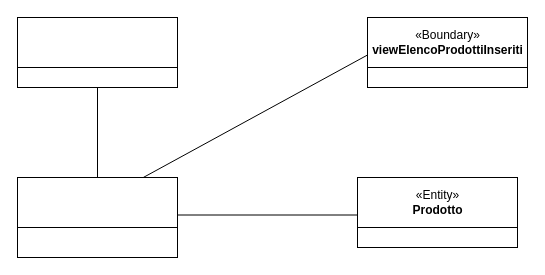
Image size: 545x275. Some labels were removed from this diagram. Each missing label, with the box of its shape:
«Boundary» newProduct: (16, 16, 178, 68)
«Control» insertProdotto: (16, 176, 178, 228)
